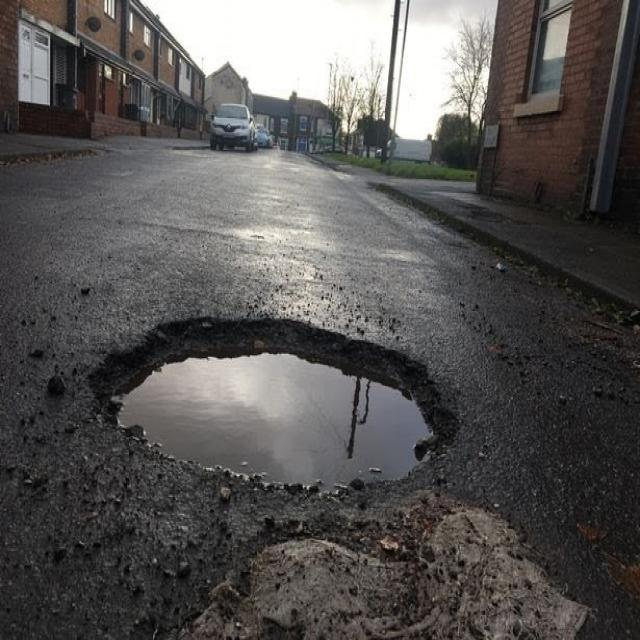Pothole: (83, 307, 463, 496)
